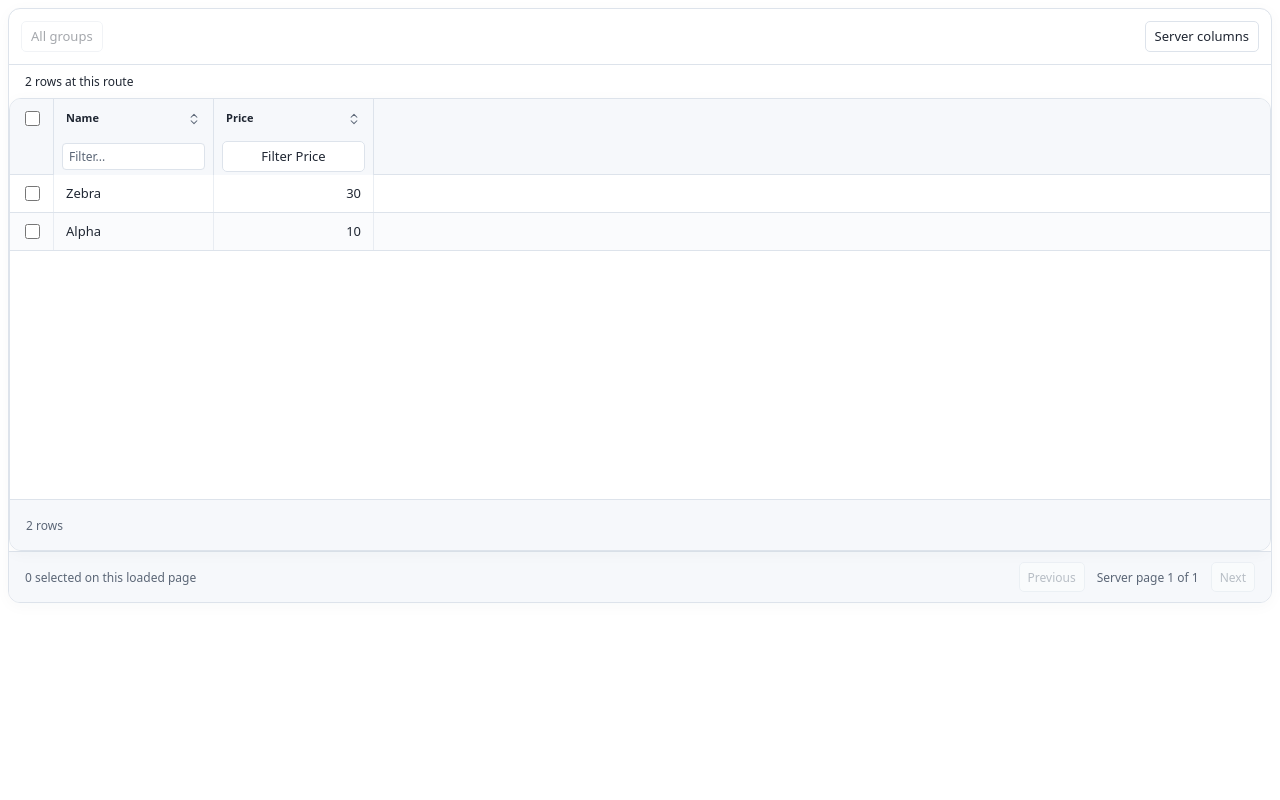
Scenario: condition filters inside DataGrid › edits one server compound query atomically while preserving provider rows and request ownership
Expected: the cell "30" is shown, [214, 175, 374, 212]
Click the button "Filter Price" at coordinates (294, 156), box [222, 141, 365, 172]
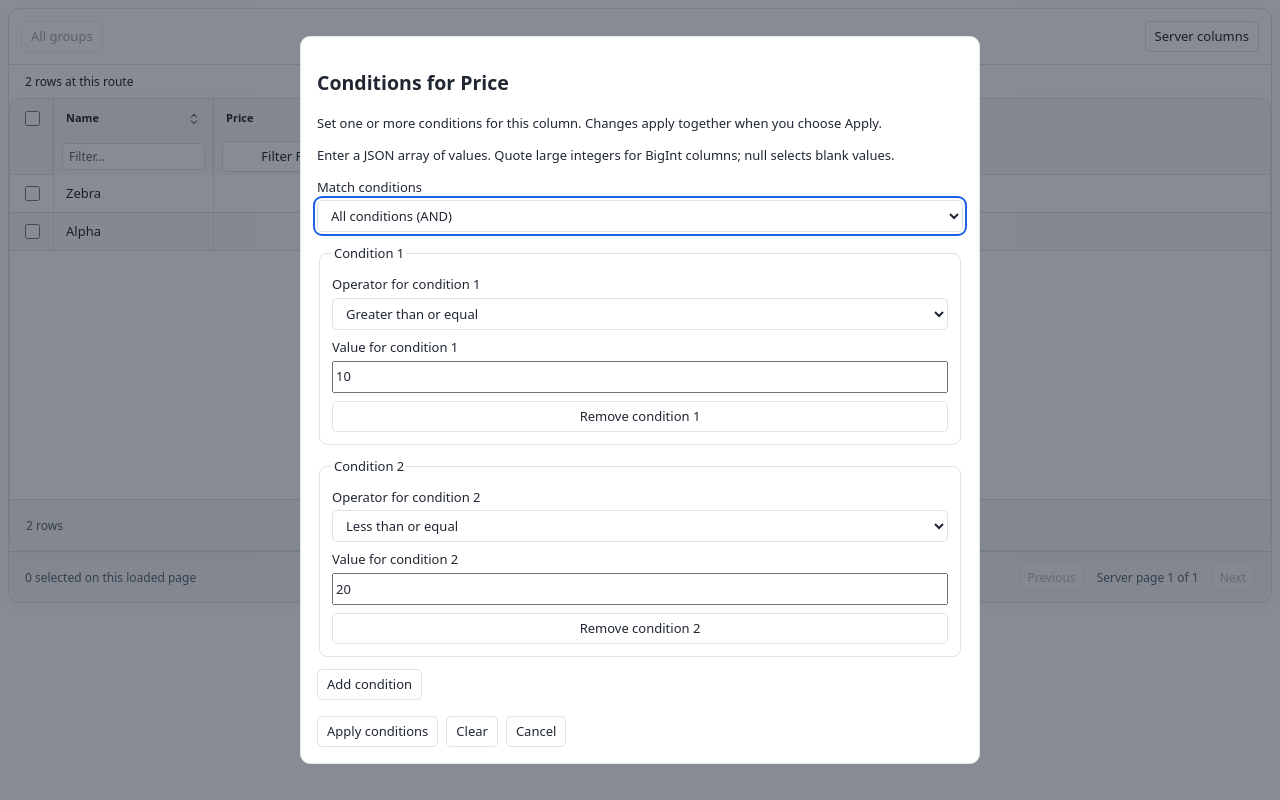
Replace the text in the field labelled "Value for condition 1" with "11" at coordinates (640, 377), box [332, 361, 948, 393]
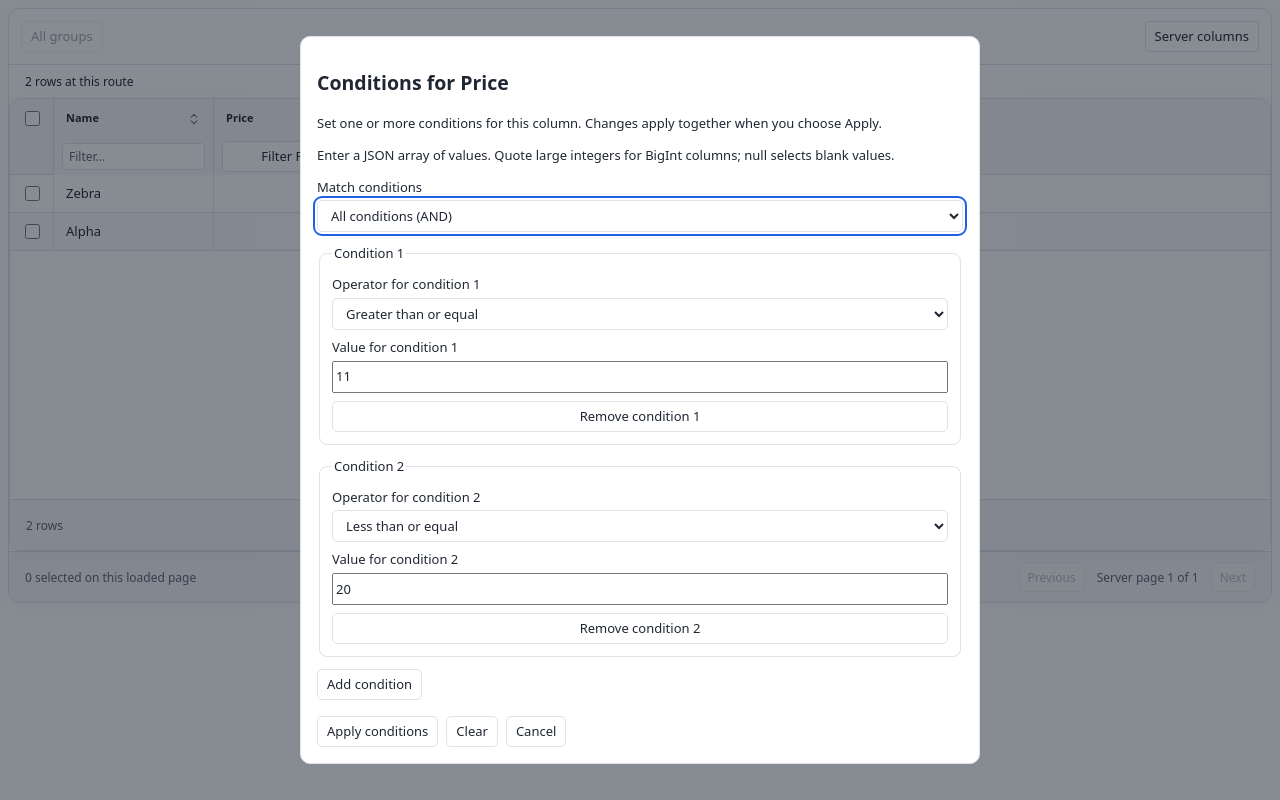
Click the button "Apply conditions" at coordinates (378, 731), box [317, 716, 438, 747]
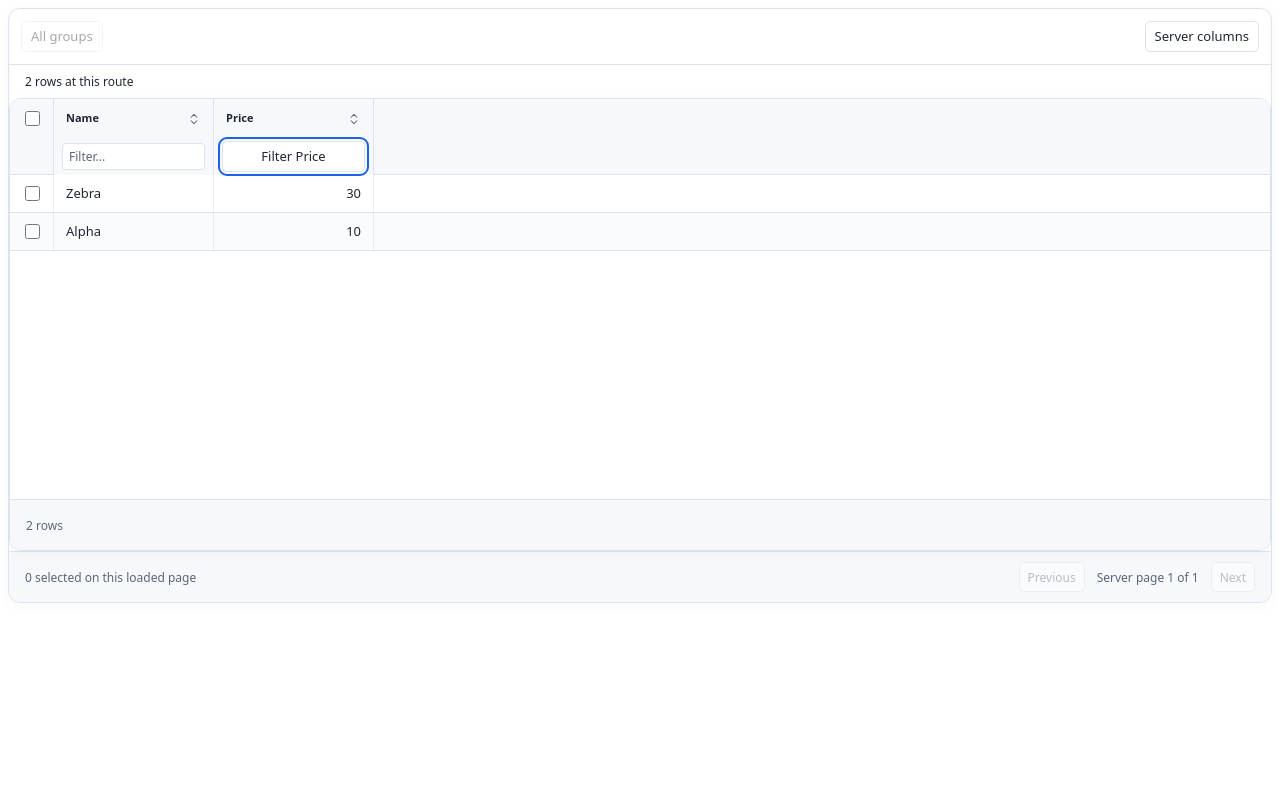
Expected: the cell "10" is shown, [214, 213, 374, 250]
Expected: the cell "30" is shown, [214, 175, 374, 212]
Click the button "Filter Price" at coordinates (294, 156), box [222, 141, 365, 172]
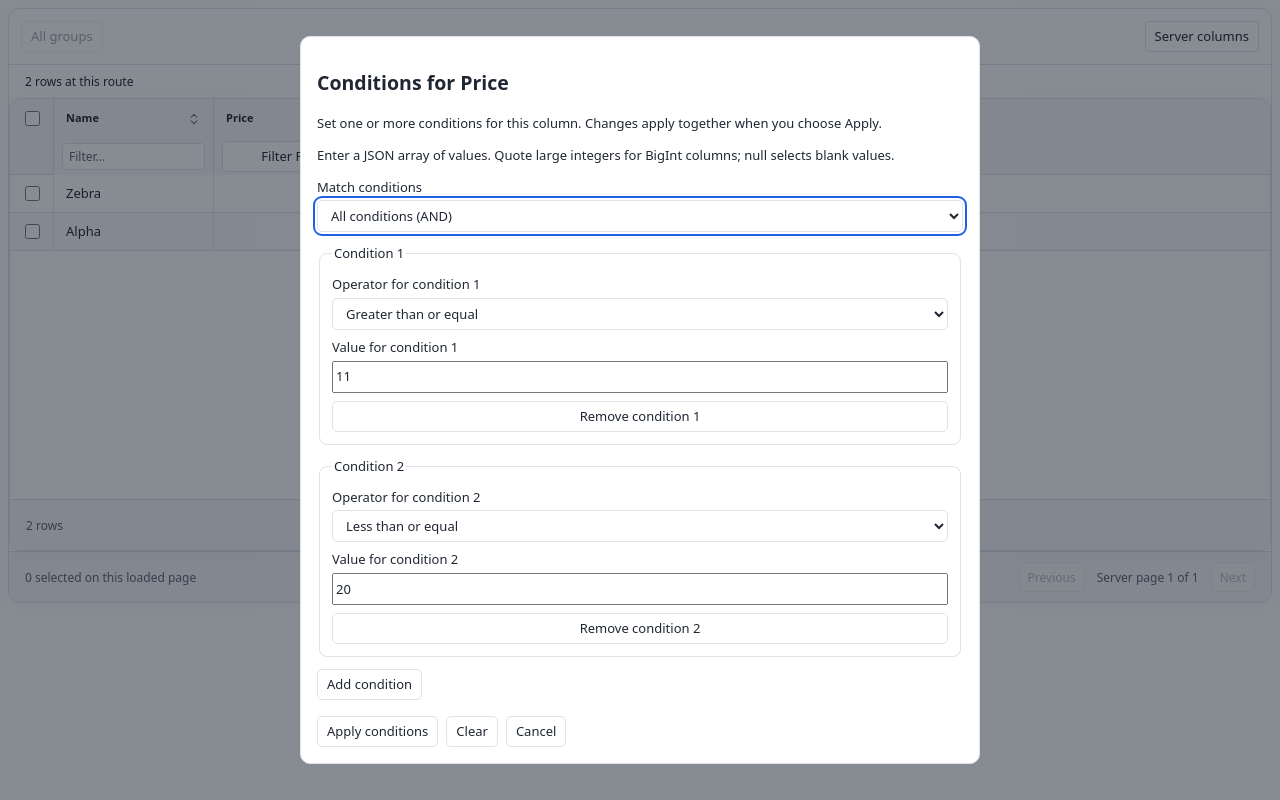
Expected: the field labelled "Value for condition 1" holds "11", [332, 361, 948, 393]
